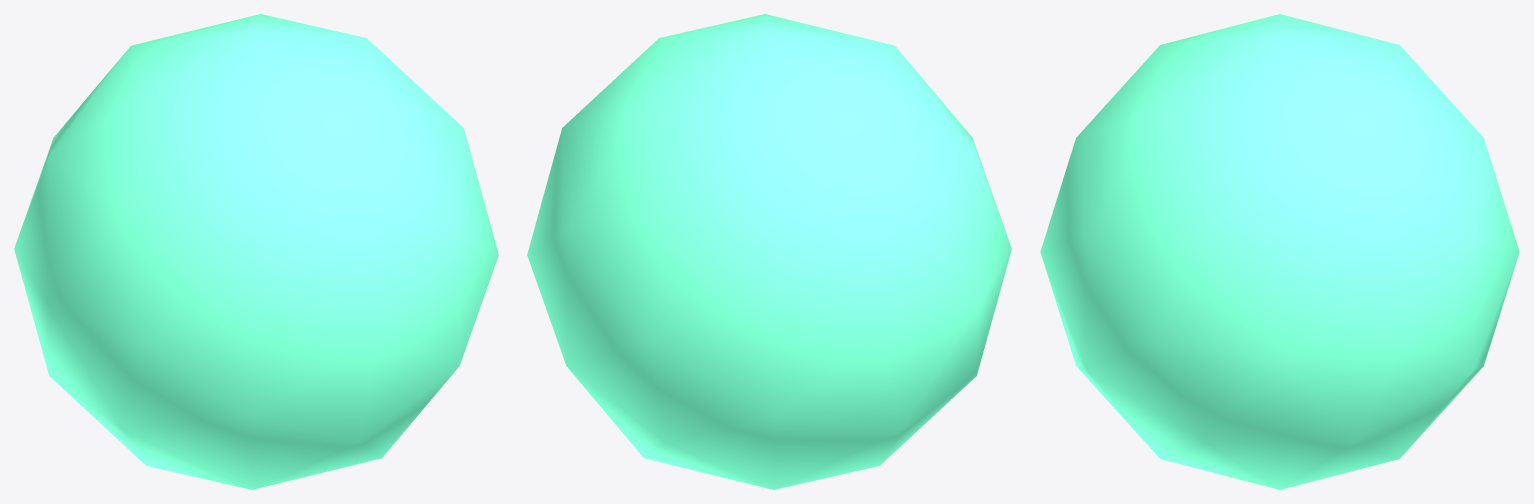
Rendered from neuron-bead.glb.
The picture shows the model from 3 angles, left to right: view 1: azimuth 30°, elevation 25°; view 2: azimuth 150°, elevation 25°; view 3: azimuth 270°, elevation 25°; orthographic projection.
Visible parts, largest first — view 1: activation; view 2: activation; view 3: activation.
Part boxes in pixels (x1,y1,x2,y2): activation: (14, 14, 498, 489); activation: (527, 14, 1011, 489); activation: (1040, 14, 1519, 489).
Size of the model in its own units: 0.24 by 0.24 by 0.24.
